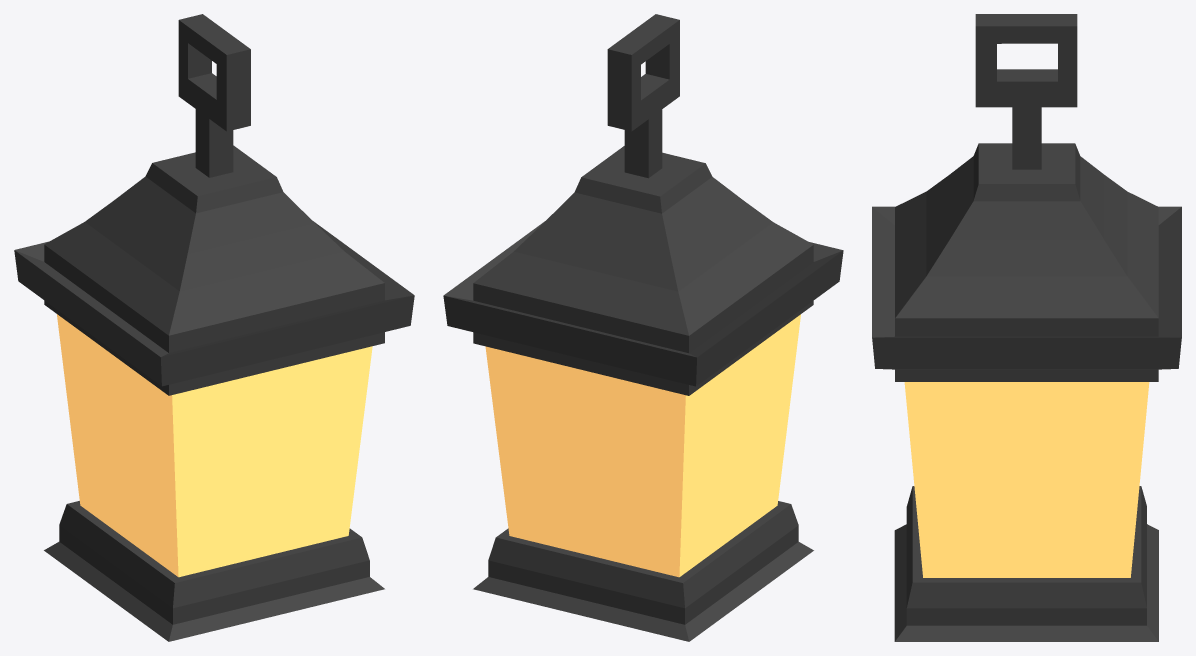
Rendered from Lanterne.fbx.
The picture shows the model from 3 angles, left to right: view 1: azimuth 30°, elevation 25°; view 2: azimuth 150°, elevation 25°; view 3: azimuth 270°, elevation 25°; orthographic projection. The views are drawn at different scales.
Visible parts, largest first — view 1: Cube.001; view 2: Cube.001; view 3: Cube.001.
Part boxes in pixels (x1,y1,x2,y2): Cube.001: (14,14,414,641); Cube.001: (443,14,843,641); Cube.001: (872,14,1181,641).
Size of the model in its own units: 45.56 by 91.81 by 45.55.
